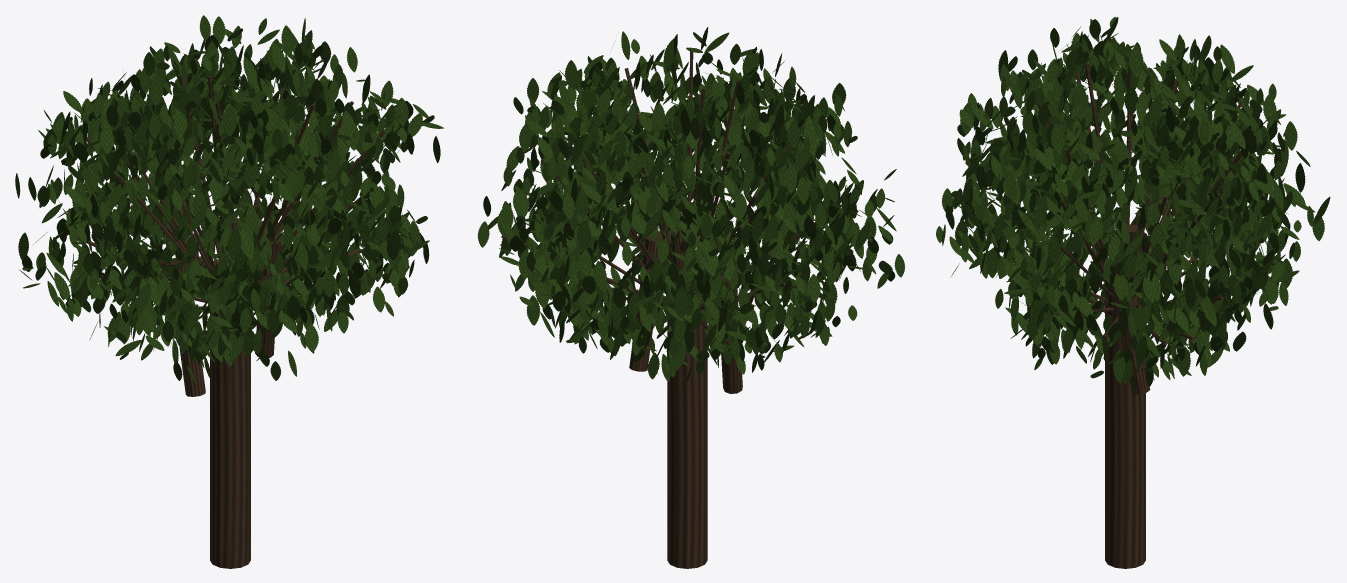
Rendered from kilmore_tree_a.glb.
3 renders of one model, left to right at view 1: azimuth 30°, elevation 25°; view 2: azimuth 150°, elevation 25°; view 3: azimuth 270°, elevation 25°, orthographic.
Visible parts, largest first — view 1: SM_Kilmore_ParkTree_A_CombinedMesh; view 2: SM_Kilmore_ParkTree_A_CombinedMesh; view 3: SM_Kilmore_ParkTree_A_CombinedMesh.
Part boxes in pixels (x1,y1,x2,y2): SM_Kilmore_ParkTree_A_CombinedMesh: (15, 15, 443, 568); SM_Kilmore_ParkTree_A_CombinedMesh: (477, 27, 905, 568); SM_Kilmore_ParkTree_A_CombinedMesh: (936, 17, 1330, 568).
Bounding box in the file's own units: 5.98 × 7.72 × 5.43.
Materials: 2 (2 with a texture image).
